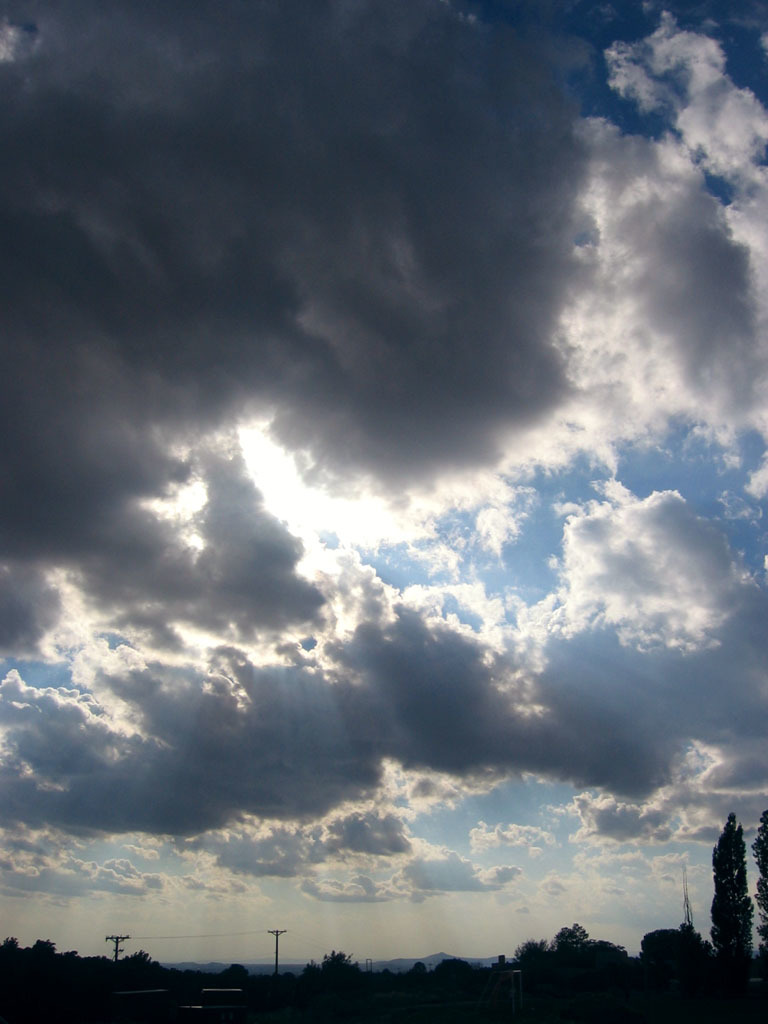Tree: (289, 917, 728, 1022), (0, 933, 183, 986), (705, 810, 756, 977), (753, 805, 767, 972)
